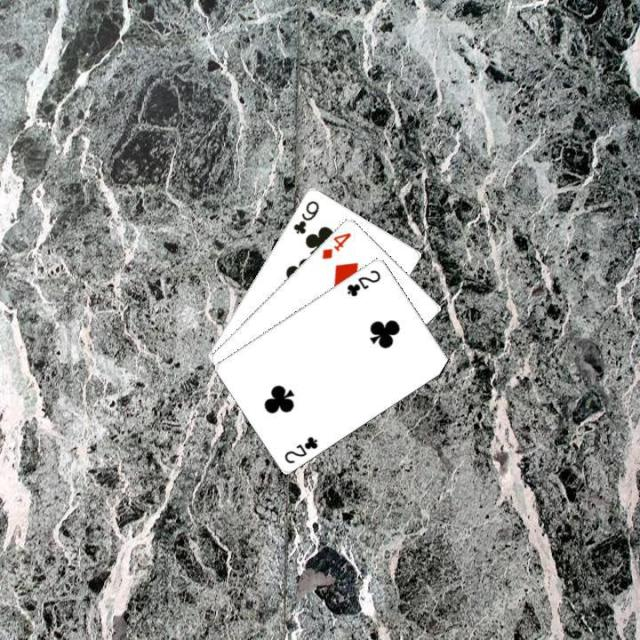2C: (280, 432, 320, 465), (343, 266, 382, 298)
4D: (318, 228, 353, 260)
9C: (289, 197, 321, 236)
